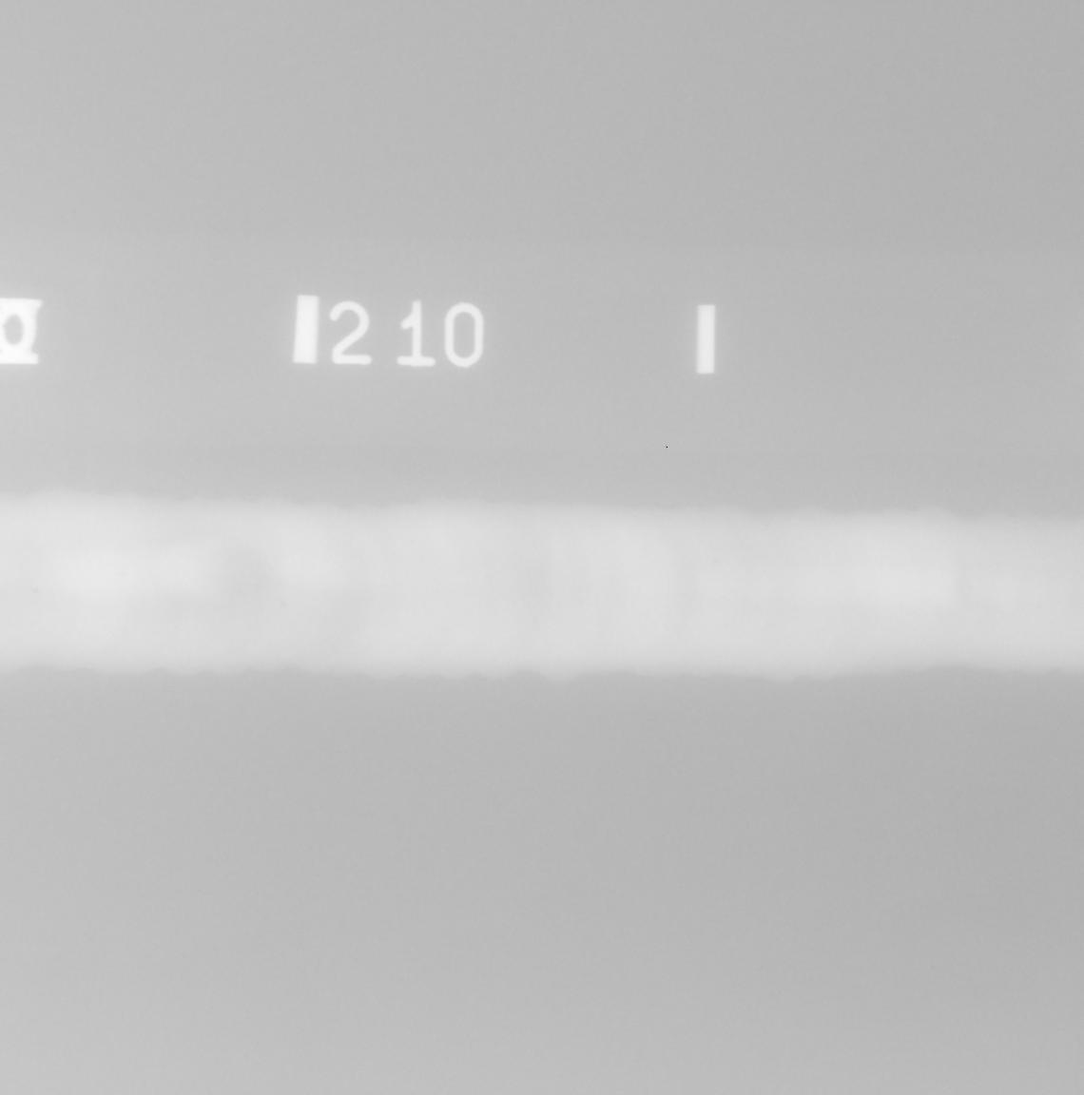Pore/Porosity: (118, 573, 126, 579), (713, 558, 720, 564), (280, 600, 286, 606), (485, 575, 491, 581), (269, 565, 274, 571), (579, 599, 583, 605), (967, 585, 973, 589), (33, 589, 38, 593), (1037, 605, 1042, 609)
Shrinkage Depression: (225, 552, 264, 593)
